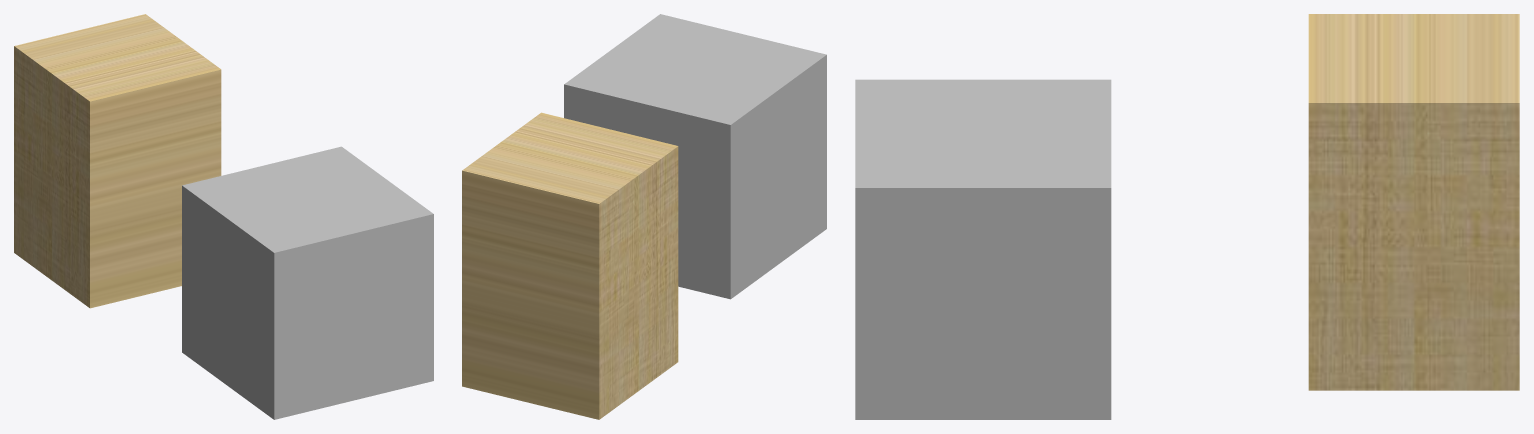
Rendered from twocubes2.gltf.
3 renders of one model, left to right at view 1: azimuth 30°, elevation 25°; view 2: azimuth 150°, elevation 25°; view 3: azimuth 270°, elevation 25°, orthographic. The views are drawn at different scales.
Bounding box in the file's own units: 2.26 × 2.48 × 5.19.
